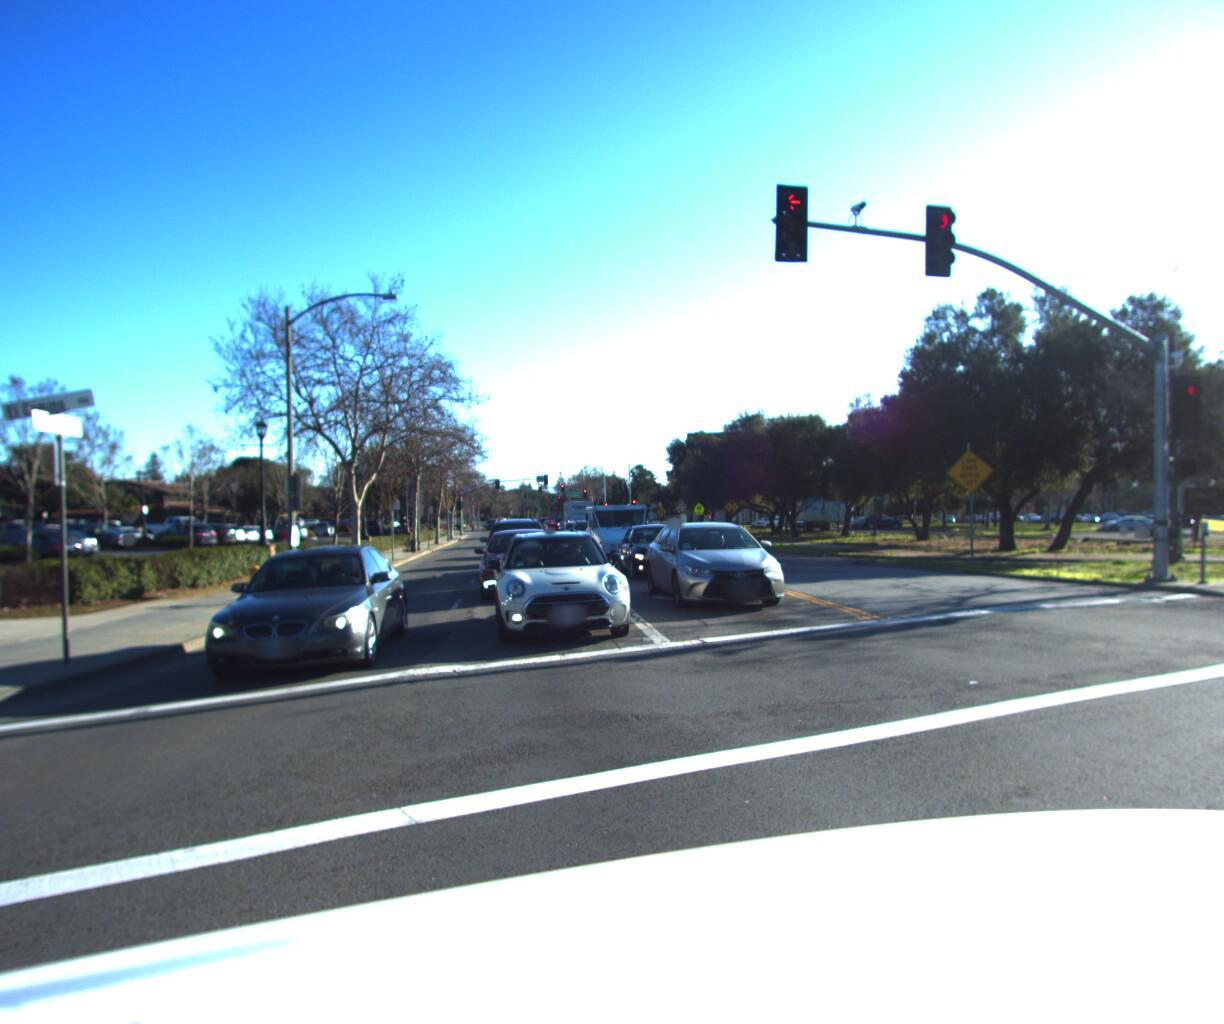car: (182, 528, 408, 685), (489, 521, 647, 649), (640, 510, 811, 611), (472, 518, 582, 598), (625, 513, 716, 573), (488, 509, 557, 574), (573, 511, 614, 545)
other_vehicle: (578, 495, 663, 563)
